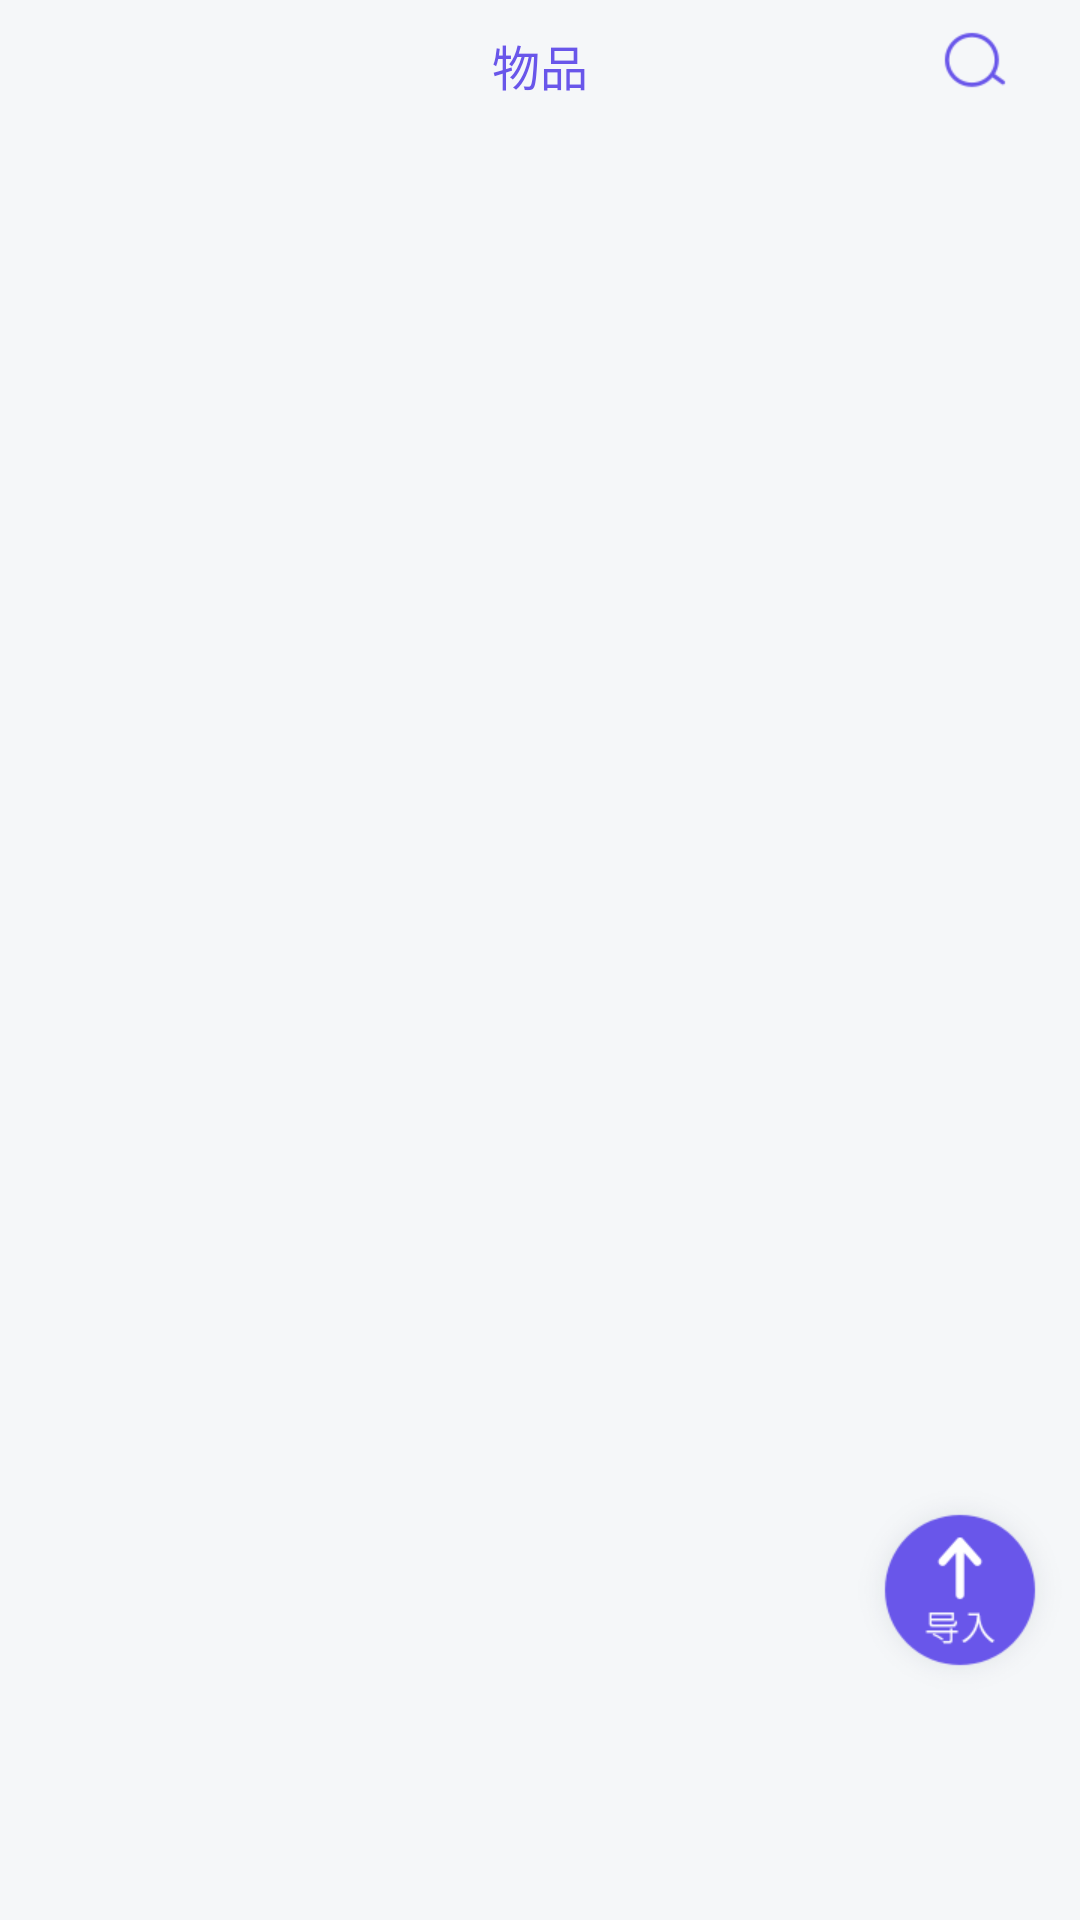

Icons on this 1080px x 1920px Android screen, each with the point to tap as [x,y]:
search: [974,59]
